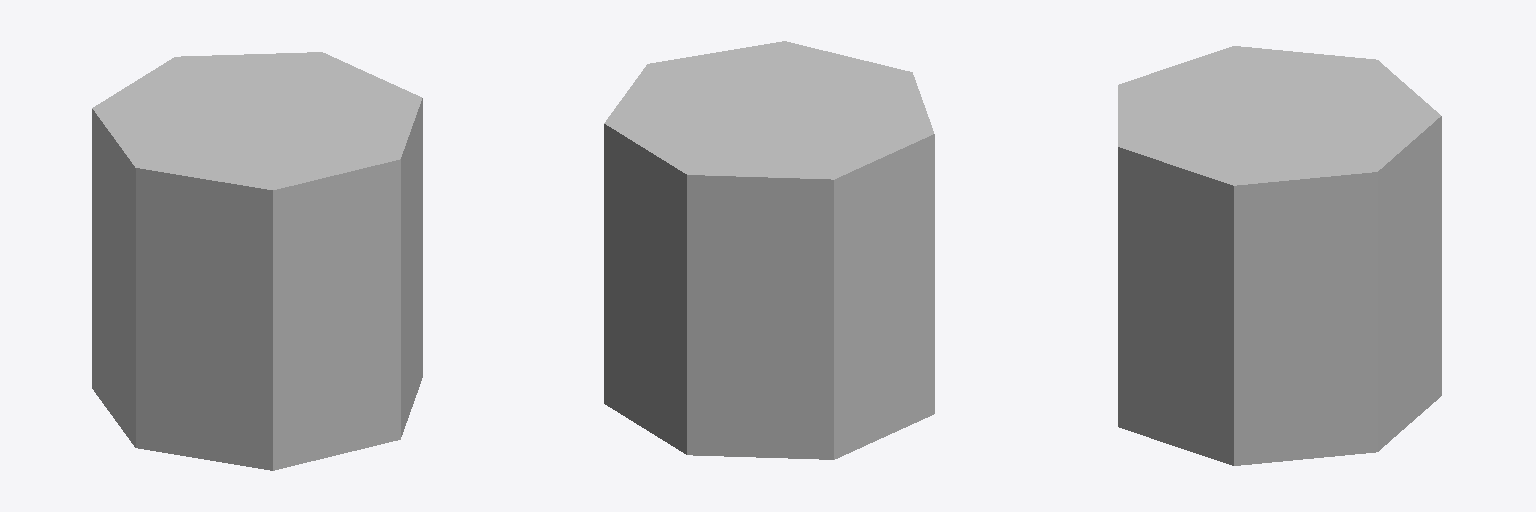
The model's file is meteor3.obj.
The picture shows the model from 3 angles: view 1: azimuth 30°, elevation 25°; view 2: azimuth 150°, elevation 25°; view 3: azimuth 270°, elevation 25°; orthographic projection.
Parts seen in each view (by area): view 1: Cylinder_Cylinder.001; view 2: Cylinder_Cylinder.001; view 3: Cylinder_Cylinder.001.
Part boxes in pixels (bbox=[...]): Cylinder_Cylinder.001: bbox=[92, 52, 422, 470]; Cylinder_Cylinder.001: bbox=[604, 41, 934, 459]; Cylinder_Cylinder.001: bbox=[1118, 46, 1441, 465].
Bounding box in the file's own units: 1.95 × 1.82 × 1.9.